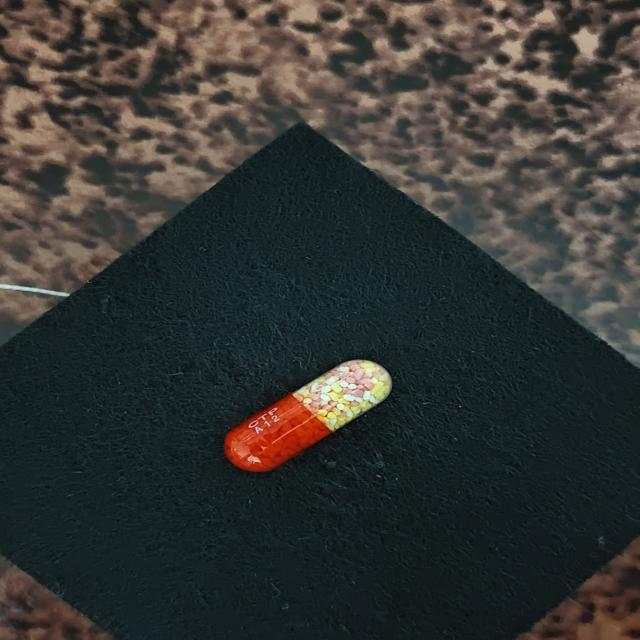Intact Capsule: (223, 359, 392, 472)
